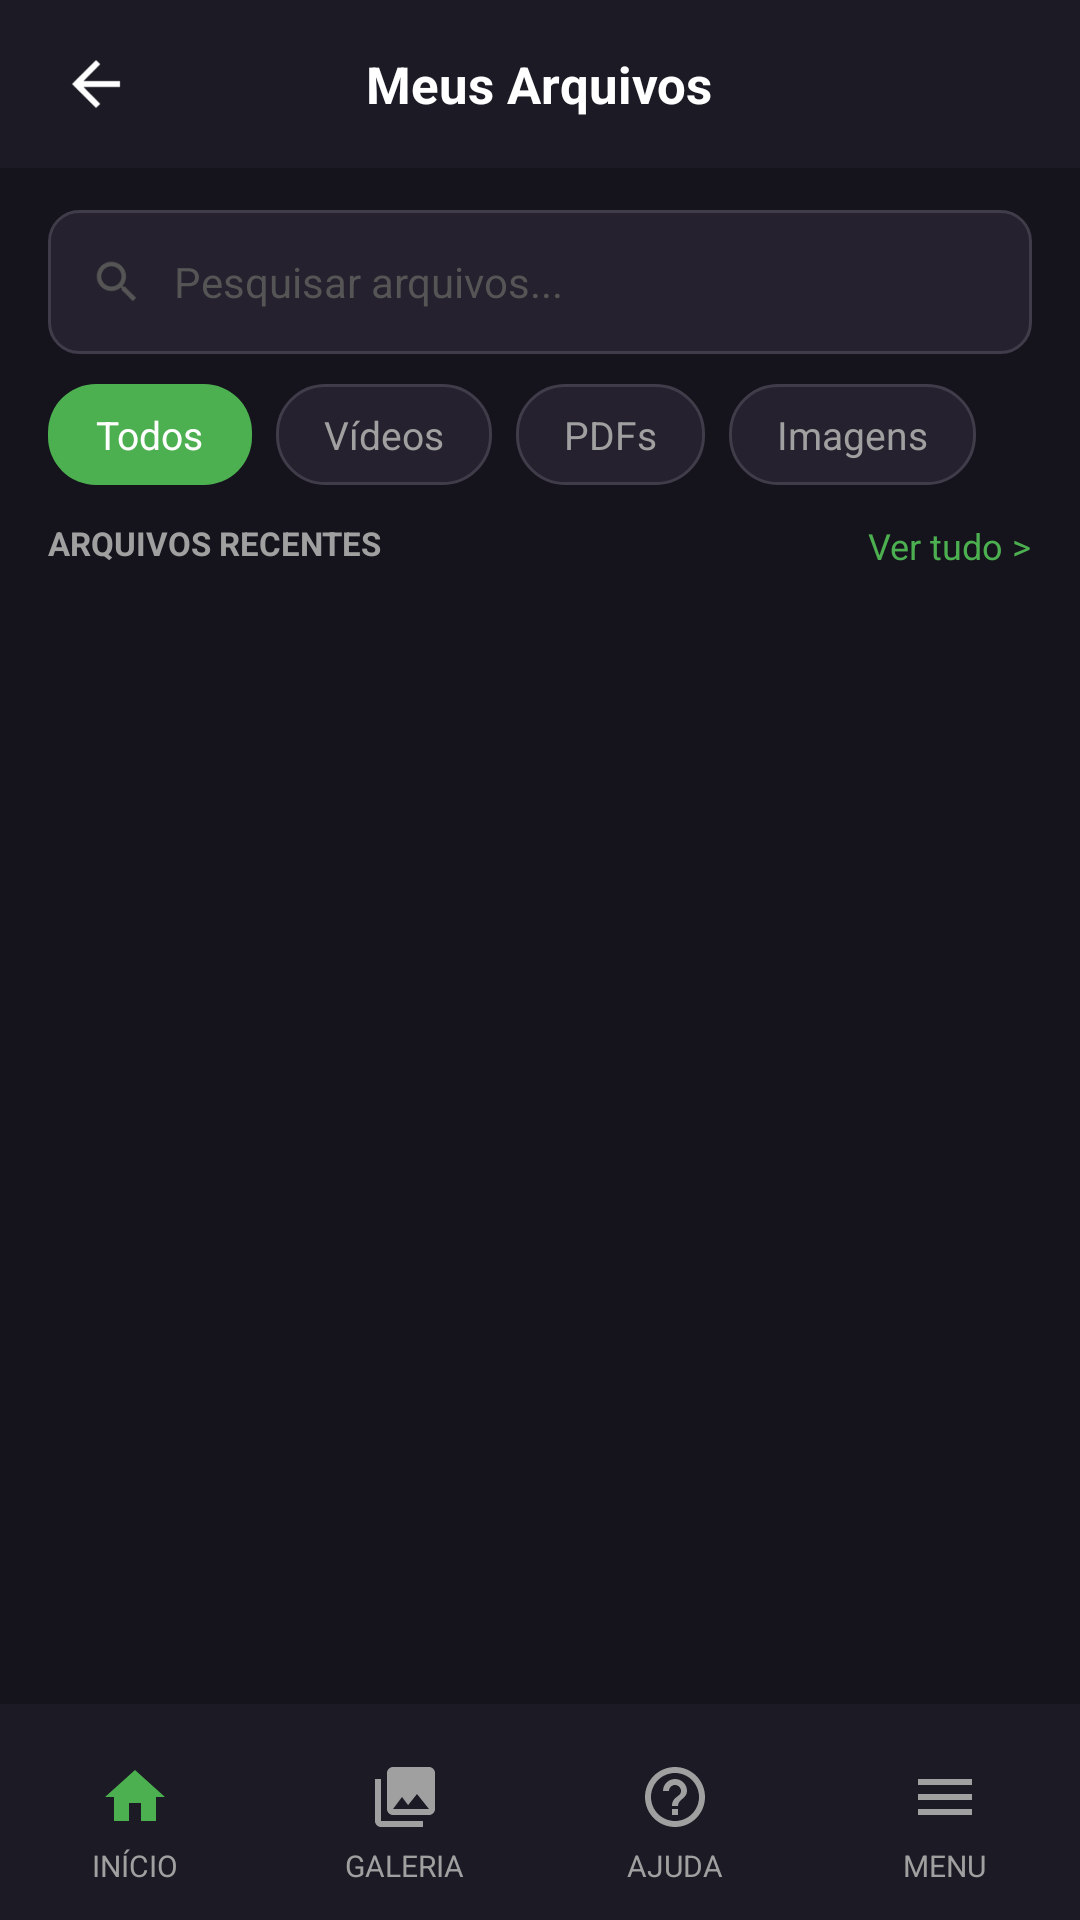

Locate icon controls on the screen. Image size 1080×1920, boxes as (x1, y1, x2, y2).
arrow back: (72, 60, 120, 108)
list: (918, 1779, 972, 1815)
search: (97, 262, 136, 301)
